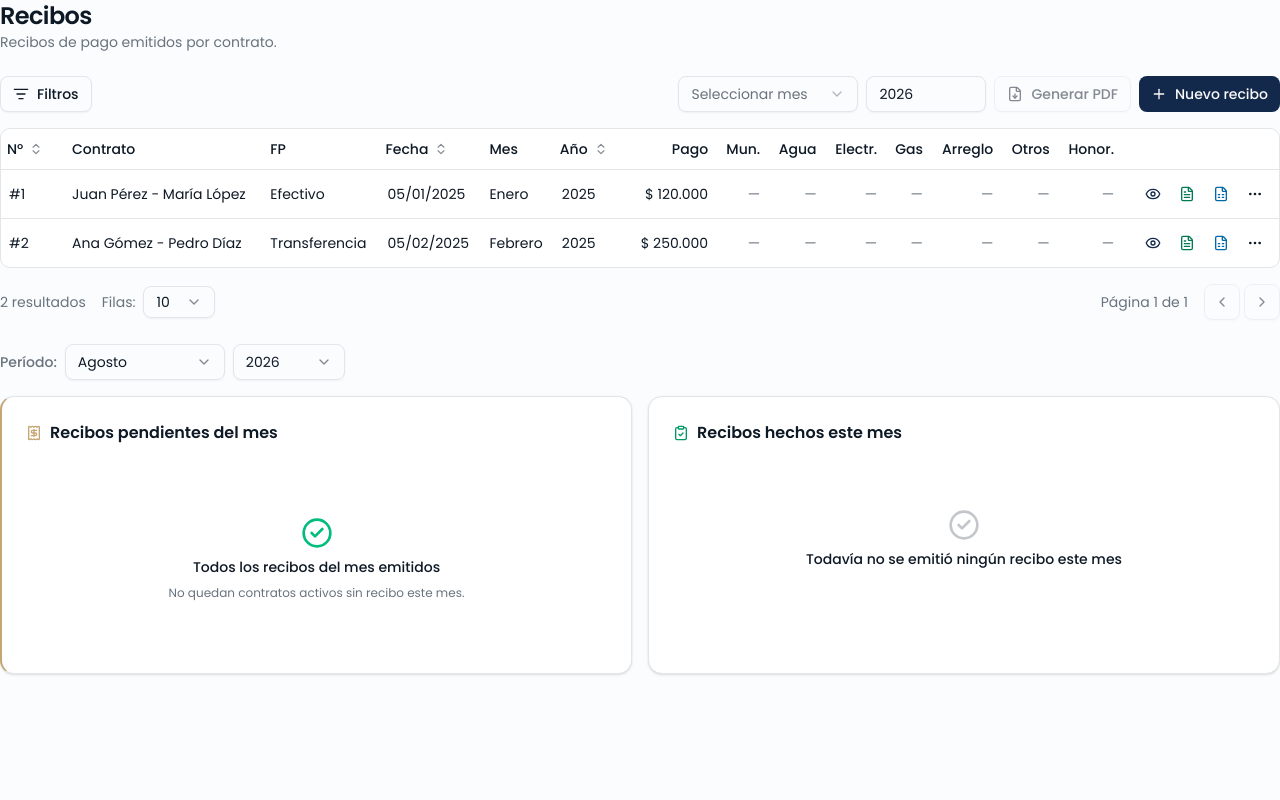
Envío por WhatsApp › para rendición usa al dueño del contrato
Expected: the text "Juan Pérez - María López" is shown, left=64, top=169, right=262, bottom=218
Click the button named "Rendición del recibo #1" at {"x": 1221, "y": 194}, box left=1205, top=178, right=1237, bottom=210
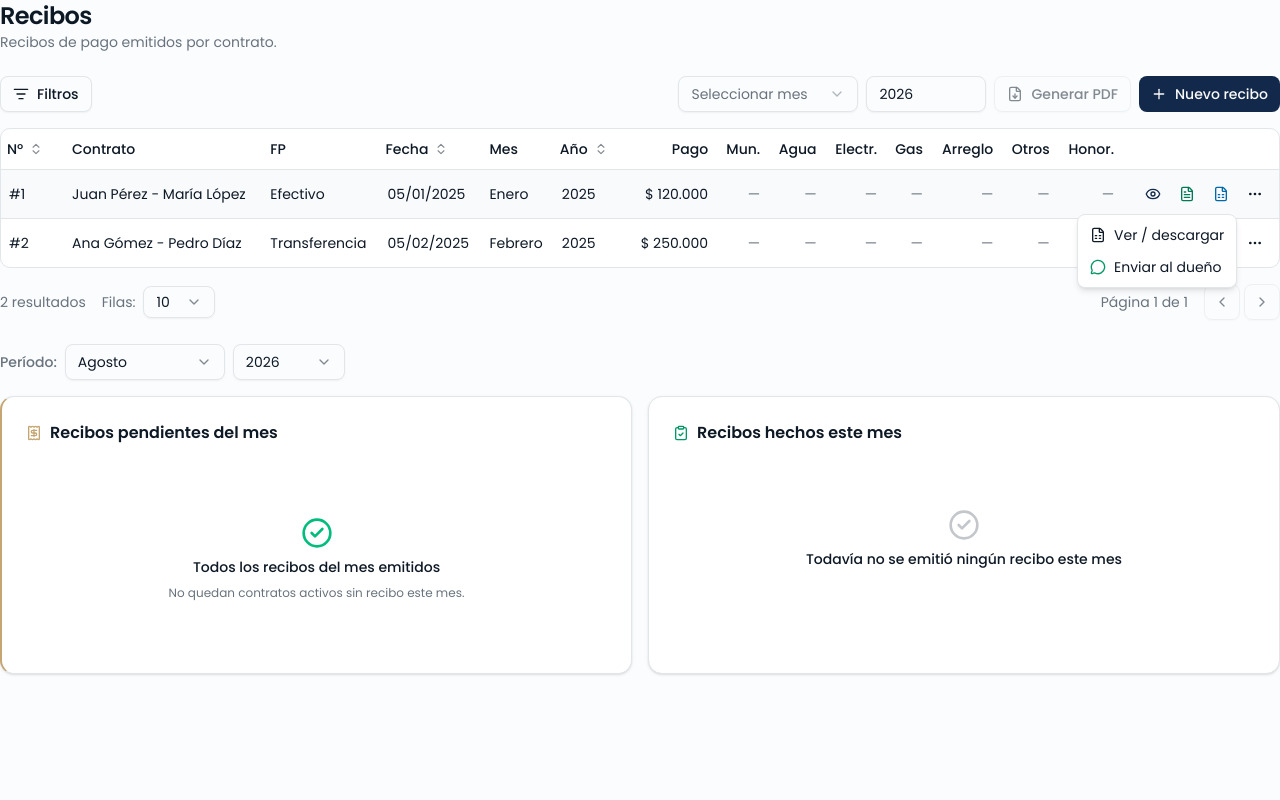
Click the menu item "Enviar al dueño" at {"x": 1157, "y": 267}, box left=1082, top=251, right=1232, bottom=283
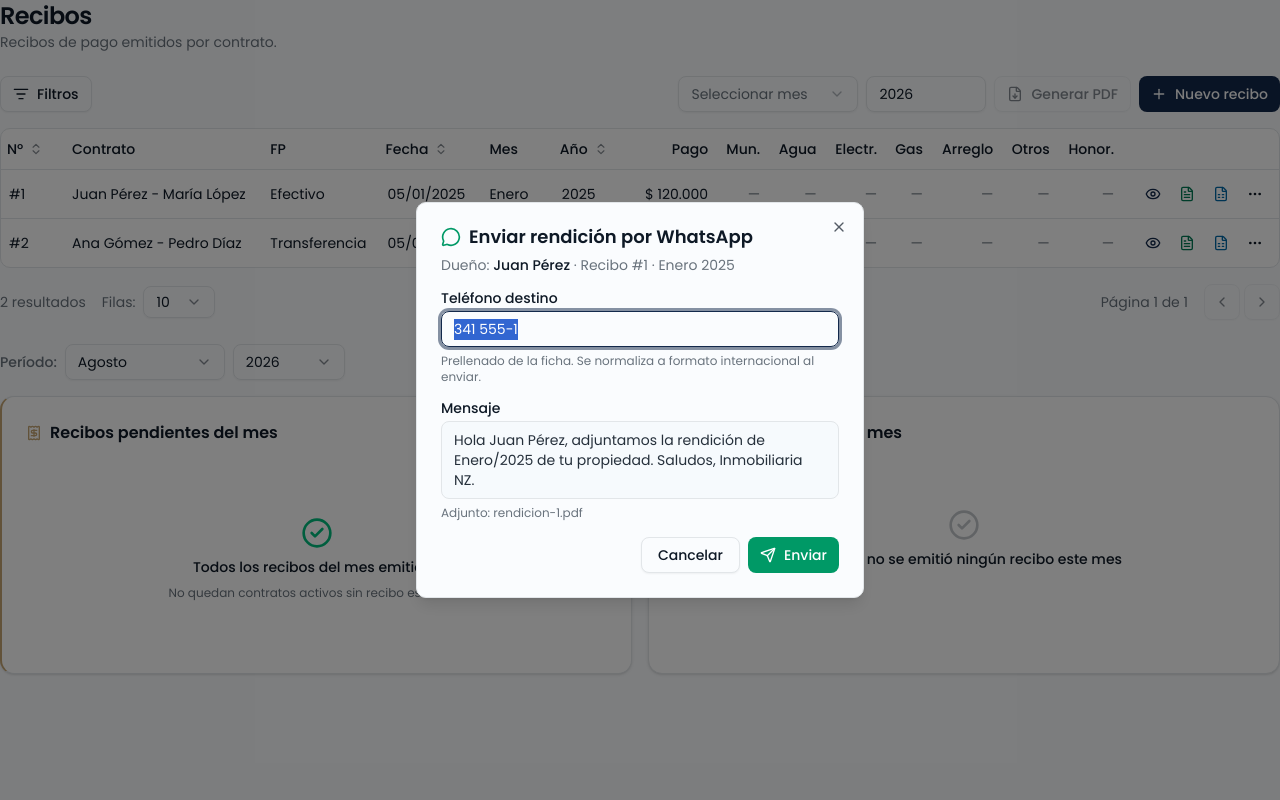
Result: the text "Juan Pérez" is shown at left=493, top=255, right=570, bottom=275
Result: the text "adjuntamos la rendición" is shown at left=454, top=430, right=803, bottom=490
